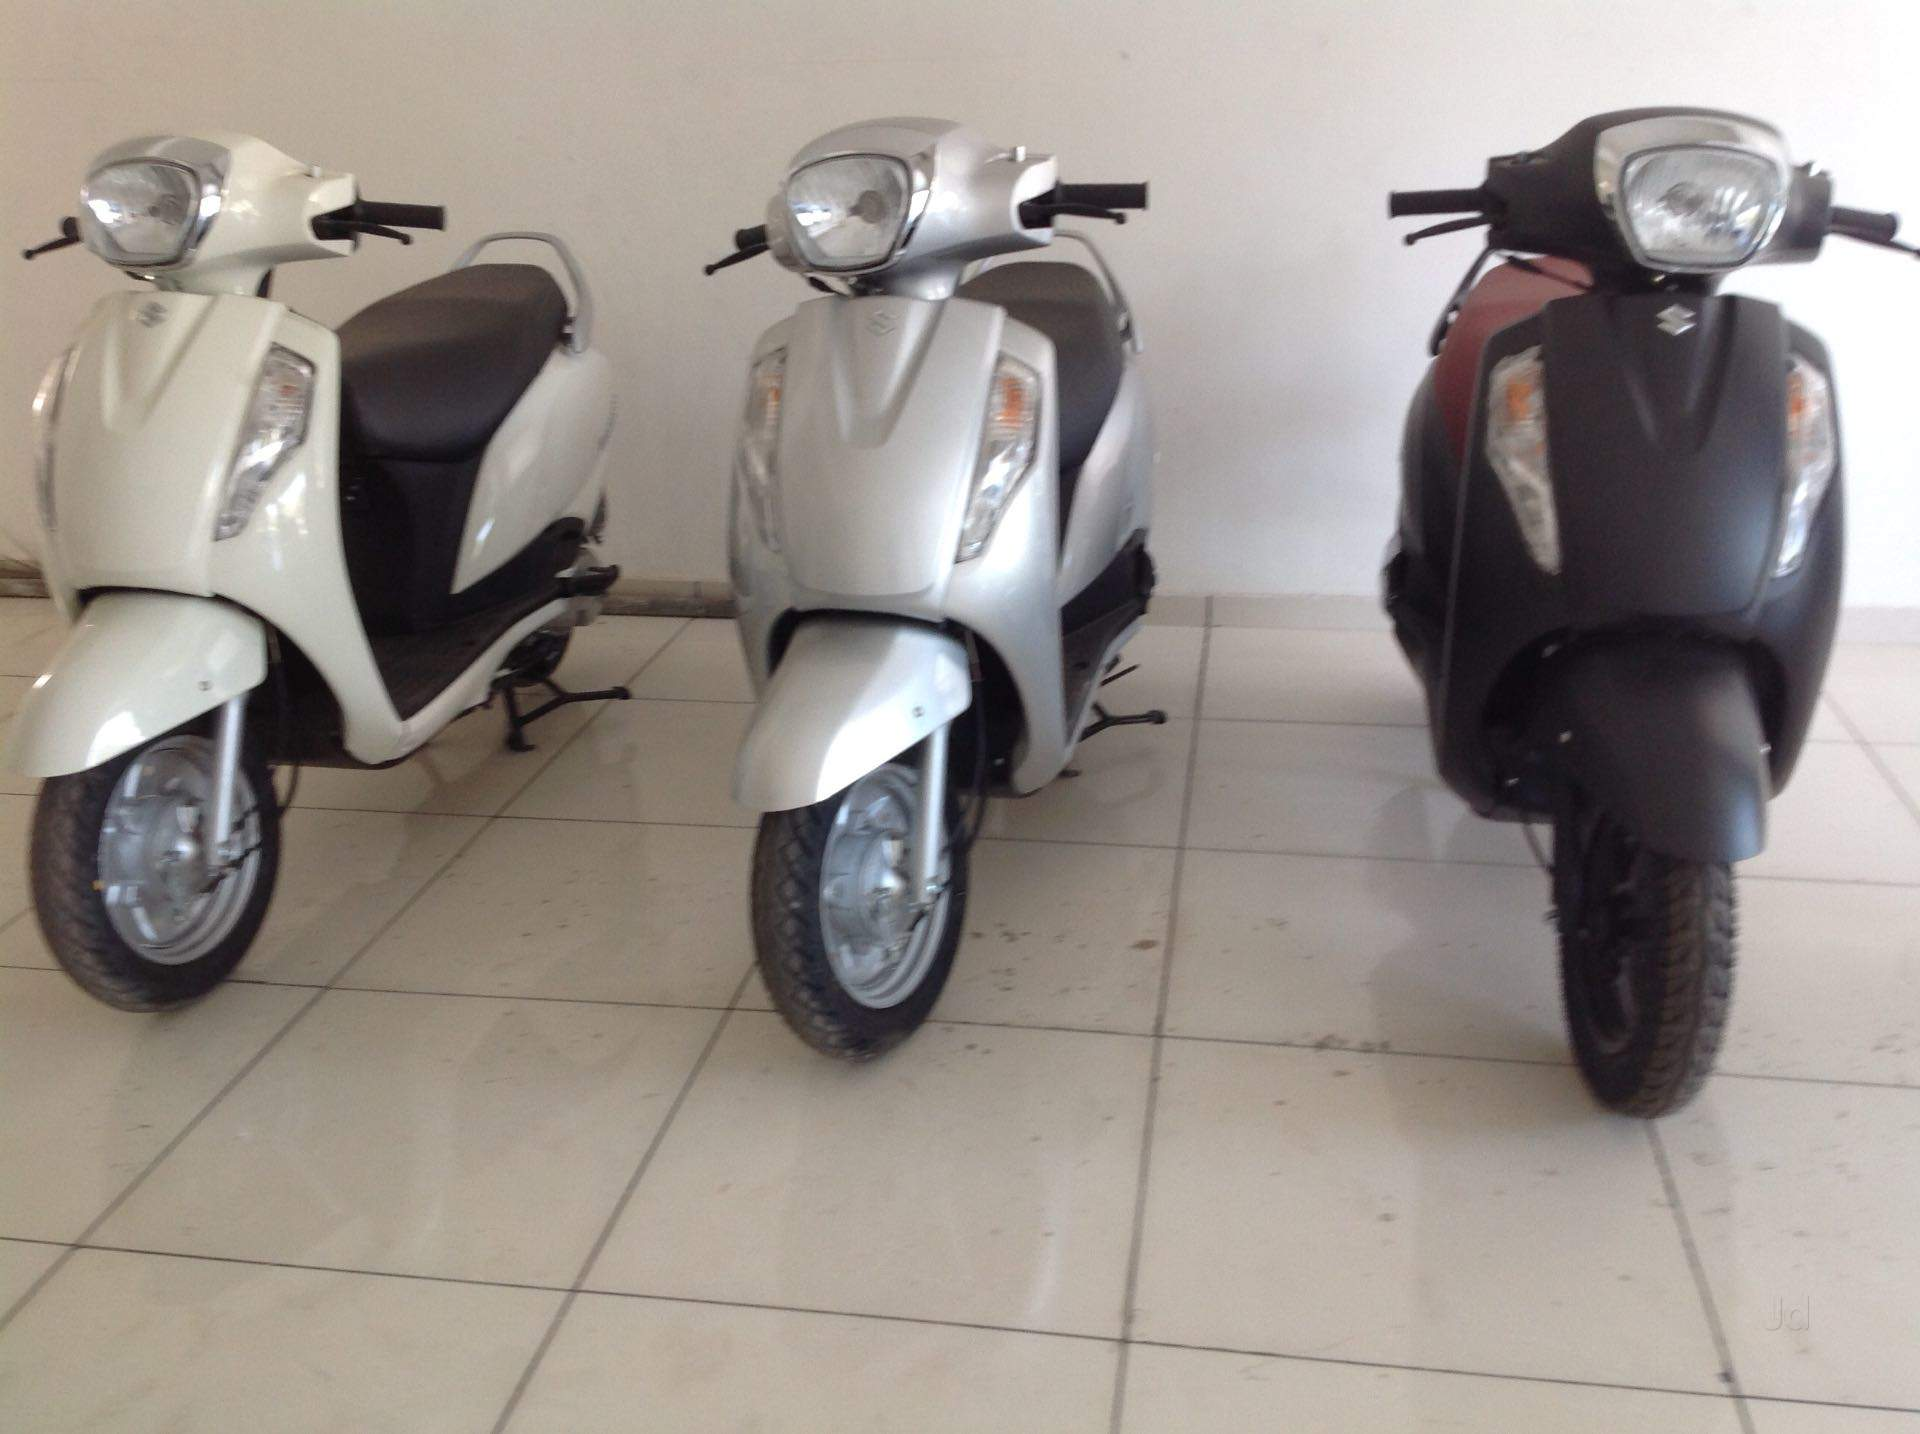bike: (17, 124, 635, 1009), (1375, 102, 1912, 1121), (702, 113, 1181, 1066)
